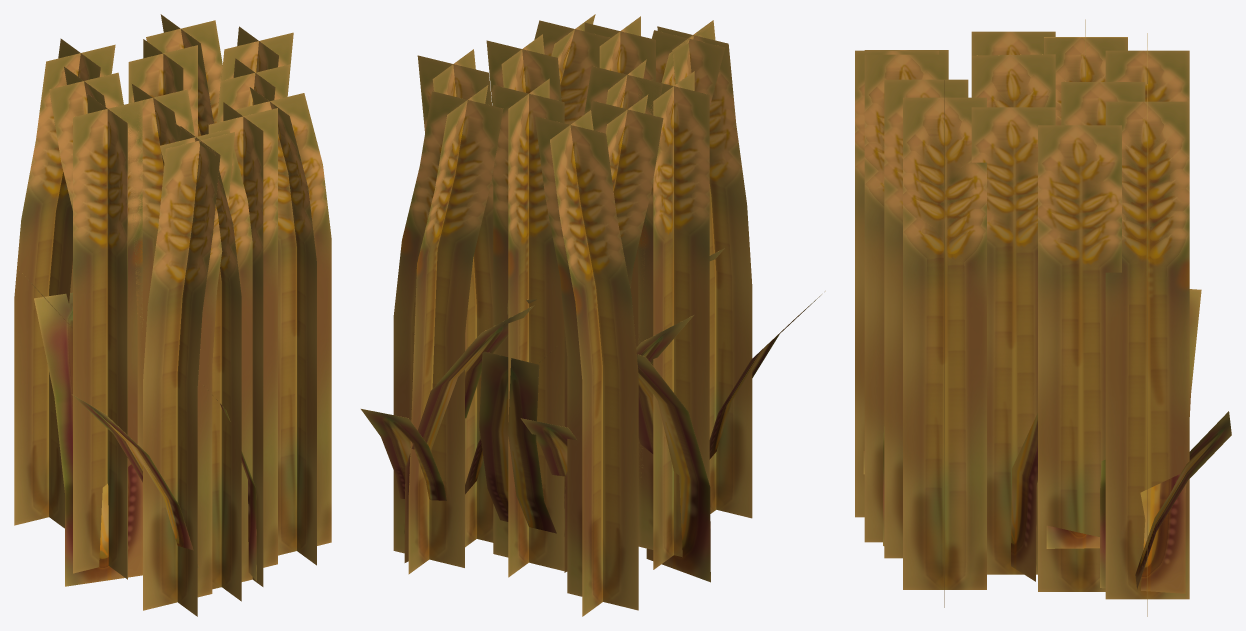
The model's file is wheet.fbx.
3 renders of one model, left to right at view 1: azimuth 30°, elevation 25°; view 2: azimuth 150°, elevation 25°; view 3: azimuth 270°, elevation 25°, orthographic. The views are drawn at different scales.
Visible parts, largest first — view 1: wheet; view 2: wheet; view 3: wheet.
Part boxes in pixels (left/top/right/bottom): wheet: left=14, top=14, right=331, bottom=616; wheet: left=361, top=14, right=825, bottom=616; wheet: left=855, top=19, right=1231, bottom=616.
Bounding box in the file's own units: 188 × 286 × 198.
Materials: 1 (1 with a texture image).
